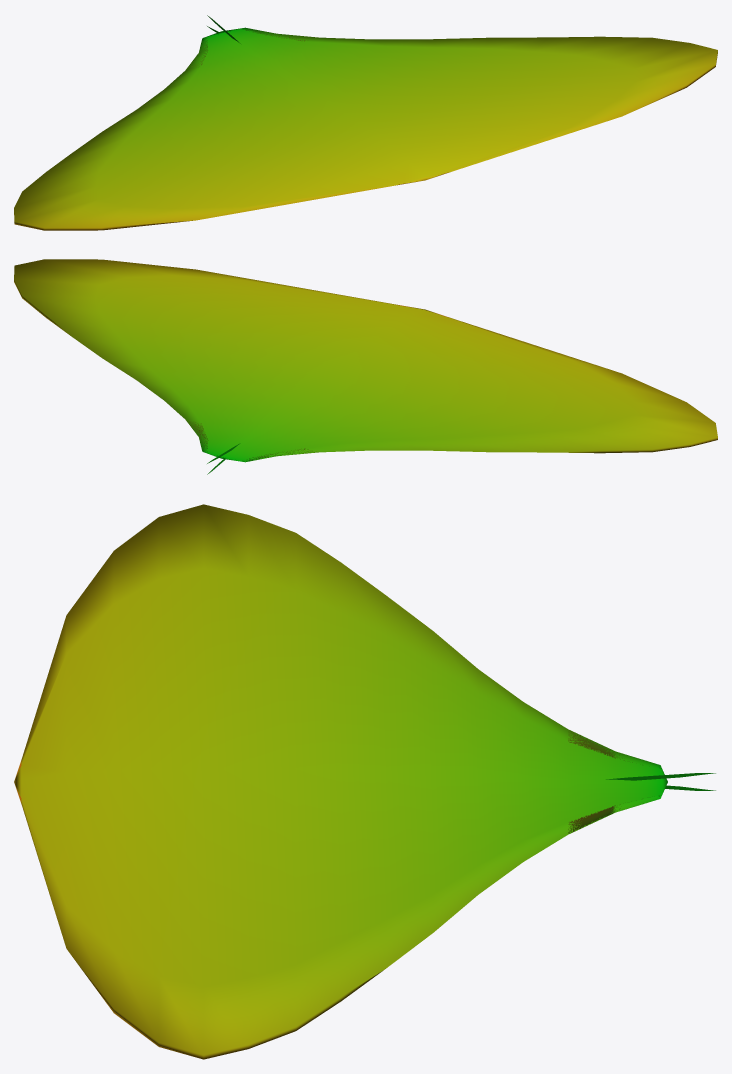
The model's file is manta.glb.
3 renders of one model, top to bottom at view 1: azimuth 30°, elevation 25°; view 2: azimuth 150°, elevation 25°; view 3: azimuth 270°, elevation 25°, orthographic. The views are drawn at different scales.
Parts seen in each view (by area): view 1: body; view 2: body; view 3: body.
Boxes of the visible parts, x1=… form: body: x1=14, y1=15, x2=717, y2=230; body: x1=14, y1=259, x2=717, y2=474; body: x1=14, y1=504, x2=715, y2=1059.
Size of the model in its own units: 2.04 by 0.0469 by 1.1.
